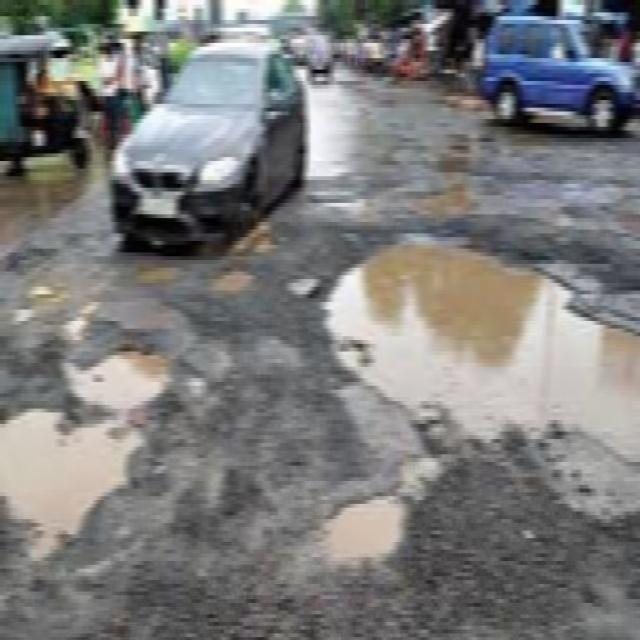Pothole: (316, 218, 640, 484), (0, 318, 196, 552), (294, 478, 418, 572), (126, 248, 194, 297), (206, 265, 268, 299)
